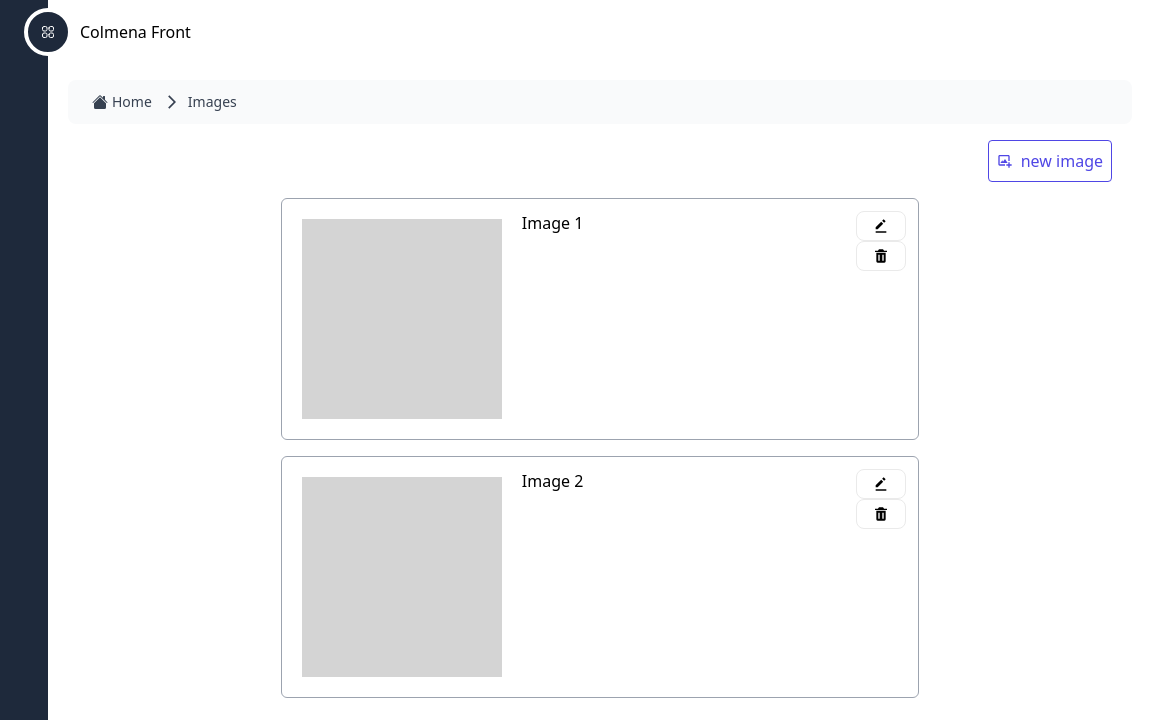
Test case: ImagesPage › should open the modal when "new image" button is clicked
Click the button "new image". click: point(1050, 161)
box: [988, 140, 1112, 182]
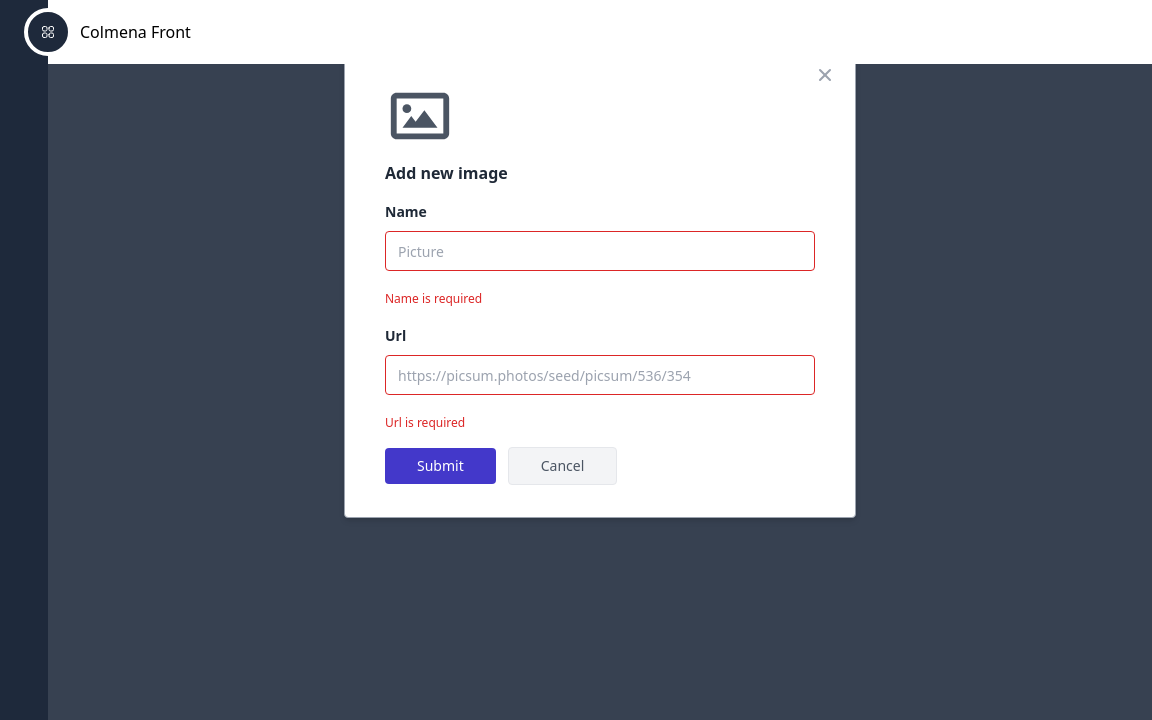
Expected: the heading "Add new image" is shown, [385, 162, 508, 184]
